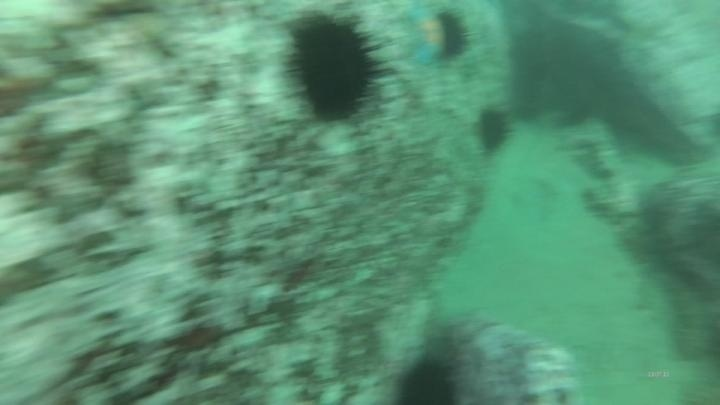echinus: (281, 11, 386, 125), (391, 352, 464, 405), (433, 7, 475, 65), (472, 105, 515, 158)
starfish: (400, 3, 450, 68)
